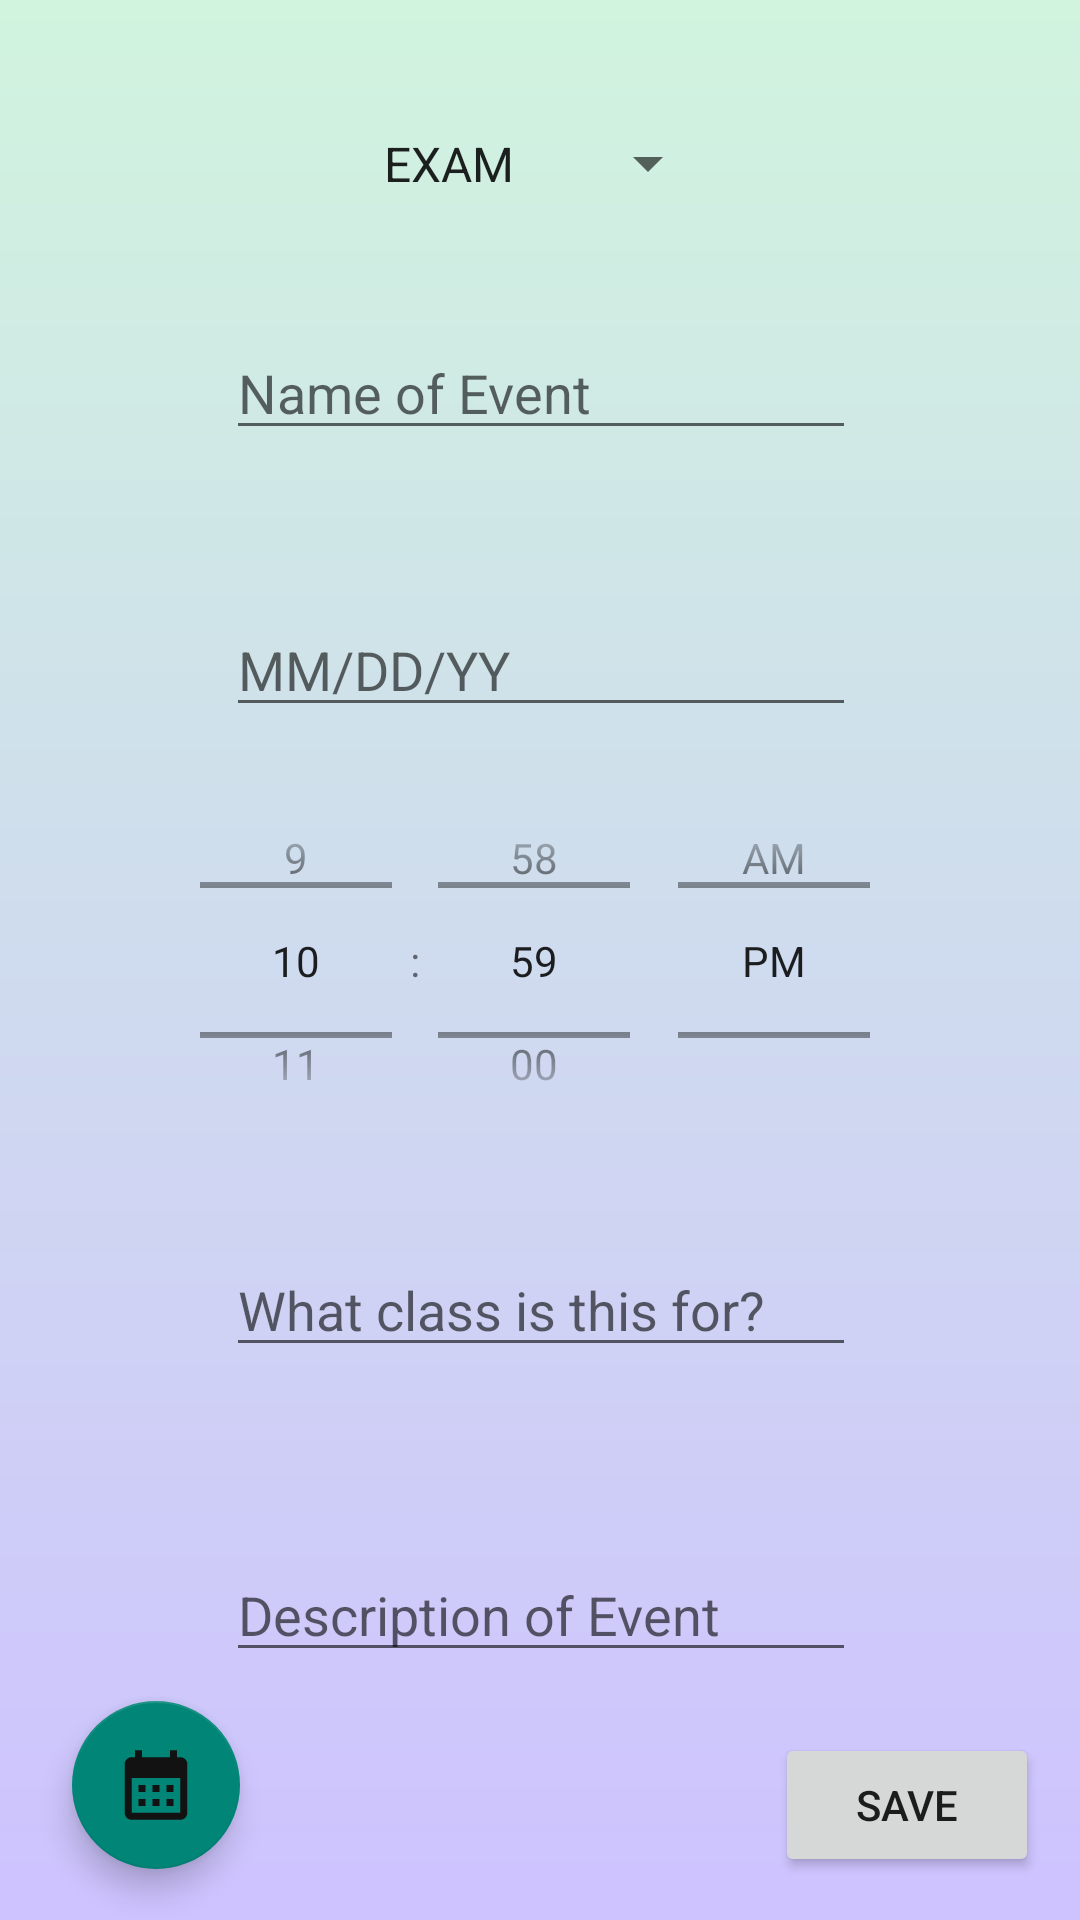

Icons on this 1080*1920 Android screen, each with the point to tap as (x=x, y=y):
calendar: (x=156, y=1785)
